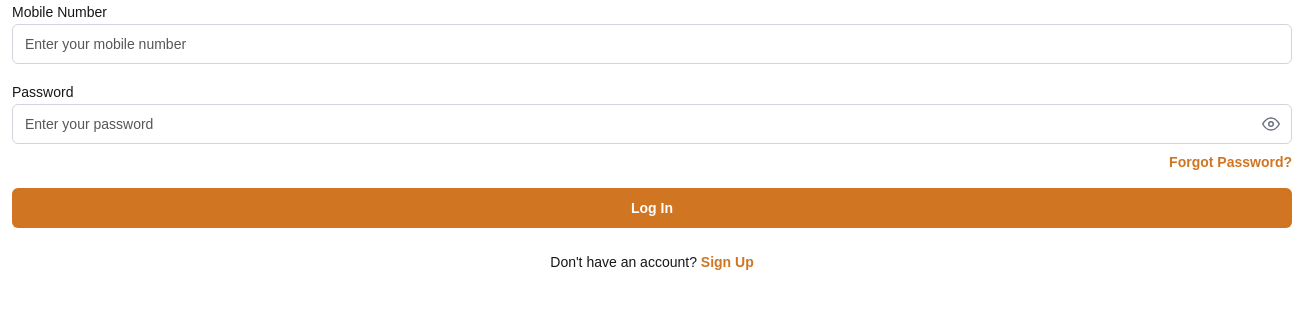
Test: LoginForm › shows zod validation for empty submit
Click the button "Log In".
click(652, 208)  # box [12, 188, 1292, 228]
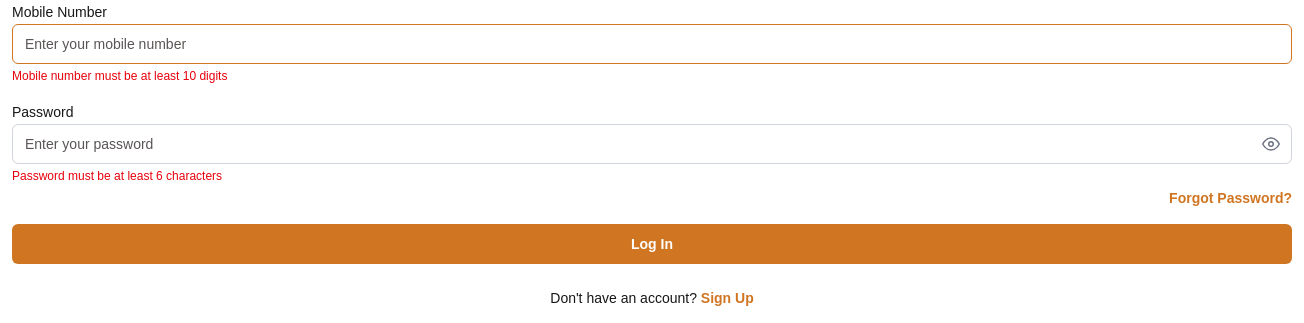
expect the text "Mobile number must be at least 10 digits" is shown: met, box [12, 69, 228, 83]
expect the text "Password must be at least 6 characters" is shown: met, box [12, 169, 222, 183]
